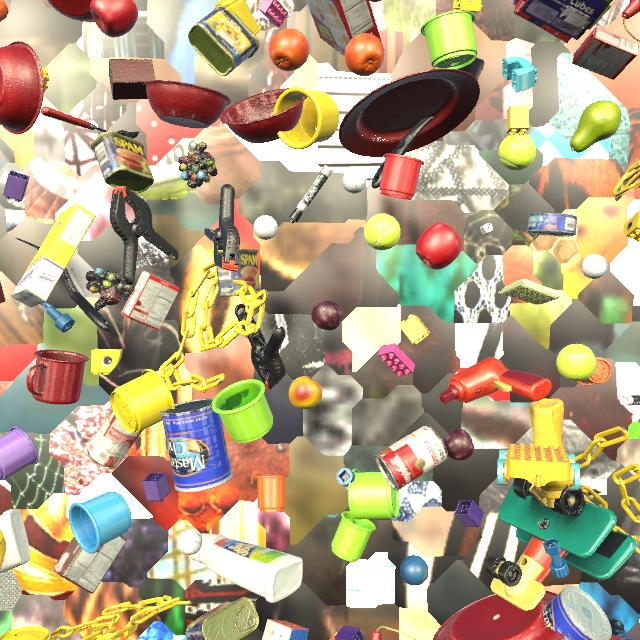ycb_002_master_chef_can: (160, 398, 232, 493), (543, 586, 612, 640)
ycb_003_cracker_box: (306, 0, 385, 56)
ycb_004_sugar_box: (11, 203, 96, 307)
ycb_005_tomato_soup_can: (375, 425, 448, 491), (87, 411, 143, 468)
ycb_006_mustard_bottle: (529, 398, 567, 508), (0, 529, 6, 569)
ycb_007_tuna_fish_can: (527, 213, 577, 236)
ycb_008_pudding_box: (52, 536, 127, 594)
ycb_009_gelatin_box: (572, 26, 639, 80), (121, 271, 180, 330)
ycb_010_potted_meat_can: (188, 3, 259, 76), (91, 131, 154, 193), (186, 597, 259, 640), (213, 248, 260, 297)
ycb_013_apple: (415, 223, 462, 270), (90, 0, 138, 37), (609, 635, 624, 640)
ycb_015_peach: (289, 376, 323, 409)
ycb_016_pear: (570, 101, 621, 153)
ycb_017_orange: (269, 28, 309, 71), (345, 33, 384, 76)
ycb_018_plum: (443, 428, 474, 461), (311, 300, 343, 330)
